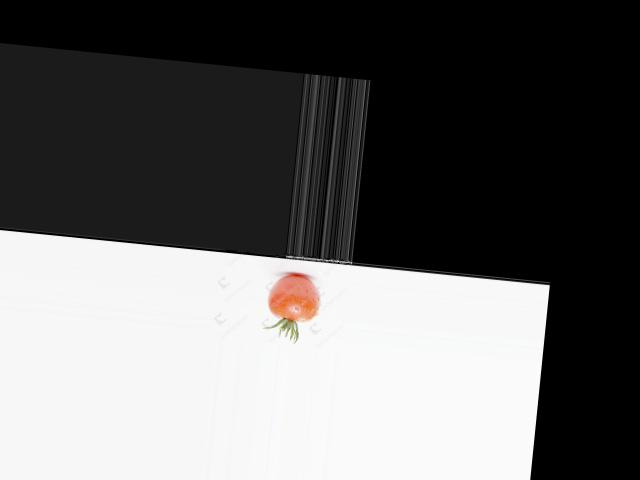tomato: (265, 271, 321, 322)
